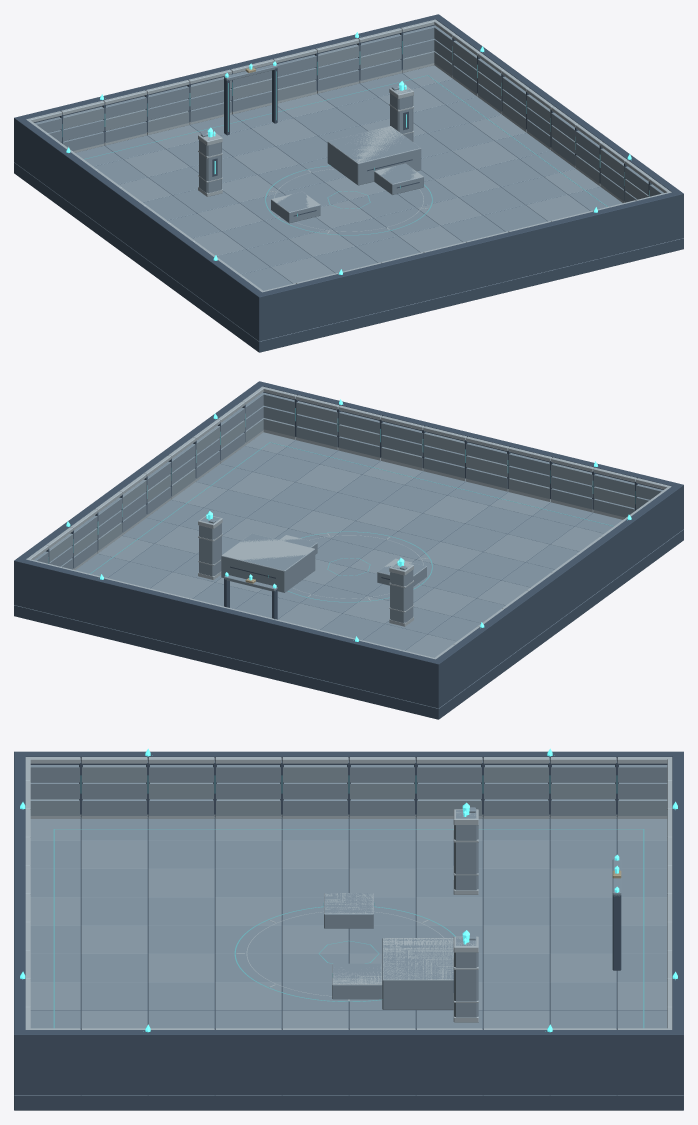
The model's file is ruins_kit.glb.
The picture shows the model from 3 angles, top to bottom: view 1: azimuth 30°, elevation 25°; view 2: azimuth 150°, elevation 25°; view 3: azimuth 270°, elevation 25°; orthographic projection. The views are drawn at different scales.
Visible parts, largest first — view 1: ENV_Ruins_Floor, ENV_Ruins_Walls, ENV_Ruins_Platforms, ENV_Ruins_Pillars, ENV_Ruins_FloorInlay, ENV_Ruins_GateArch; view 2: ENV_Ruins_Floor, ENV_Ruins_Walls, ENV_Ruins_Platforms, ENV_Ruins_Pillars, ENV_Ruins_FloorInlay, ENV_Ruins_GateArch; view 3: ENV_Ruins_Floor, ENV_Ruins_Walls, ENV_Ruins_Platforms, ENV_Ruins_Pillars, ENV_Ruins_FloorInlay, ENV_Ruins_GateArch.
Boxes of the visible parts, <box> form: ENV_Ruins_Floor: <box>14,65,683,352</box>; ENV_Ruins_Walls: <box>14,14,683,341</box>; ENV_Ruins_Platforms: <box>271,126,423,223</box>; ENV_Ruins_Pillars: <box>198,85,413,196</box>; ENV_Ruins_FloorInlay: <box>84,75,607,235</box>; ENV_Ruins_GateArch: <box>224,61,277,135</box>; ENV_Ruins_Floor: <box>14,432,683,719</box>; ENV_Ruins_Walls: <box>14,381,683,708</box>; ENV_Ruins_Platforms: <box>221,533,426,592</box>; ENV_Ruins_Pillars: <box>198,515,413,626</box>; ENV_Ruins_FloorInlay: <box>90,442,613,602</box>; ENV_Ruins_GateArch: <box>224,572,277,619</box>; ENV_Ruins_Floor: <box>14,817,683,1110</box>; ENV_Ruins_Walls: <box>14,751,683,1095</box>; ENV_Ruins_Platforms: <box>323,893,453,1009</box>; ENV_Ruins_Pillars: <box>453,807,478,1022</box>; ENV_Ruins_FloorInlay: <box>53,829,644,1028</box>; ENV_Ruins_GateArch: <box>612,854,621,970</box>.
Bounding box in the file's own units: 40 × 6.84 × 40.
